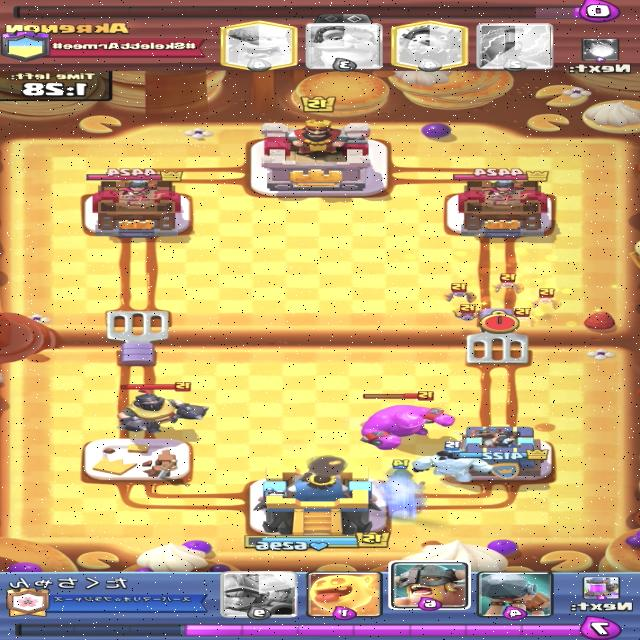Enemy-Bat: (487, 274, 529, 294), (523, 288, 563, 309), (503, 308, 541, 328), (443, 283, 478, 303), (451, 304, 486, 322)
Enemy-ElixirGolem: (358, 390, 457, 450)
Enemy-MegaKnight: (106, 382, 210, 434)
Player-Bandit: (376, 460, 426, 514)
Player-IceGolem: (406, 441, 494, 484)
